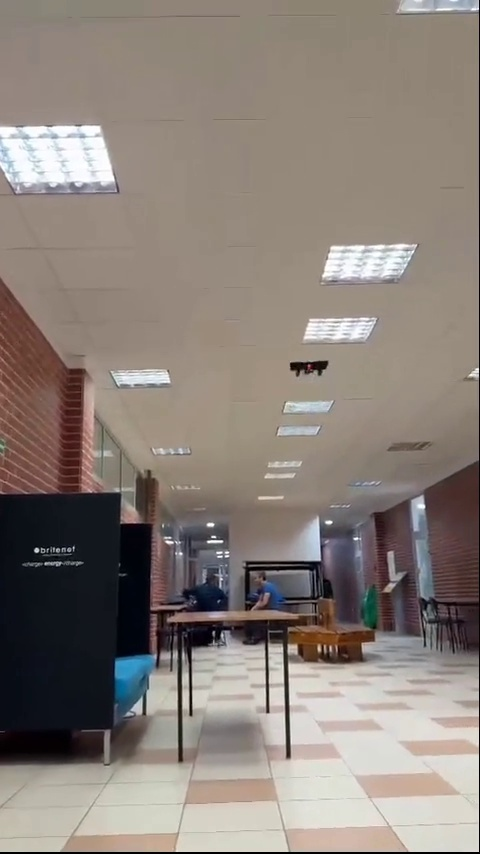drone: (288, 359, 329, 372)
no vest: (182, 568, 230, 616), (248, 568, 288, 611)
